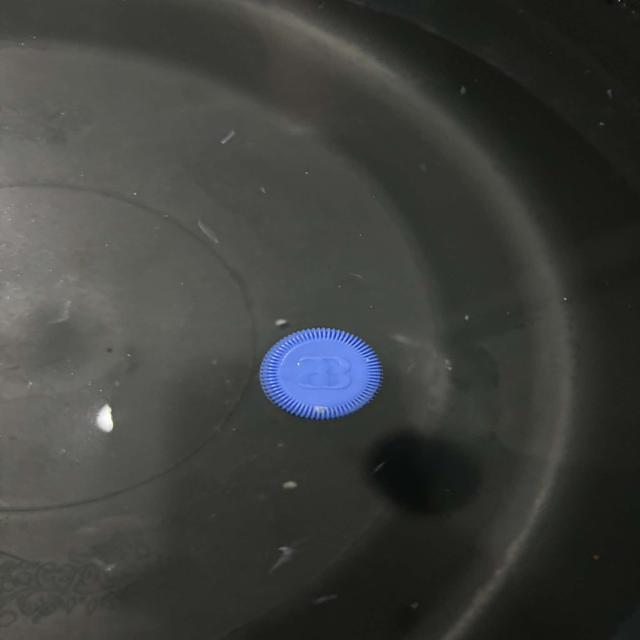Bottle Lid: (242, 297, 447, 432)
